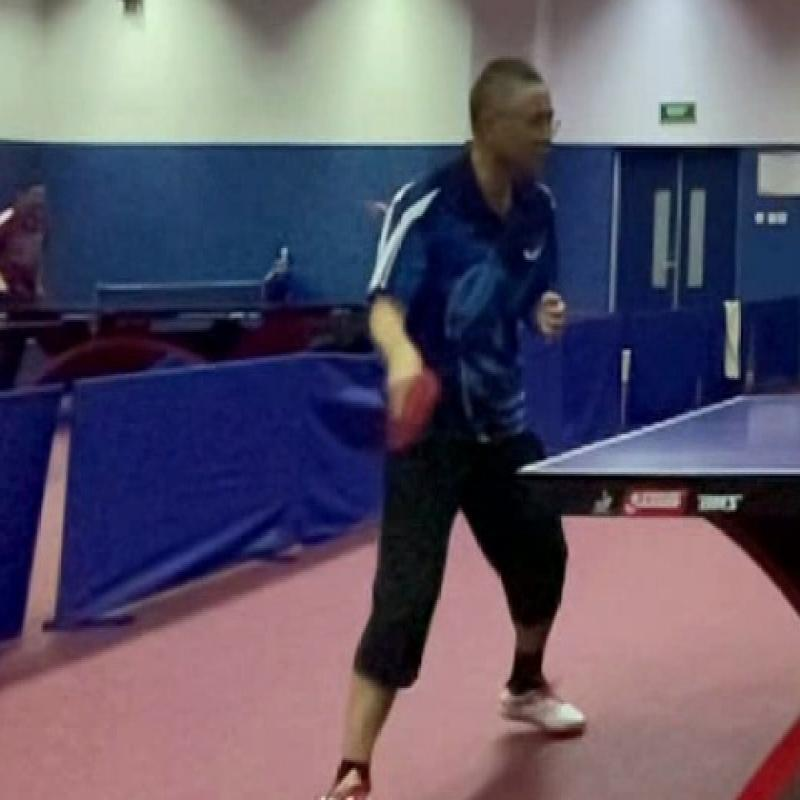bats: (376, 358, 458, 460)
